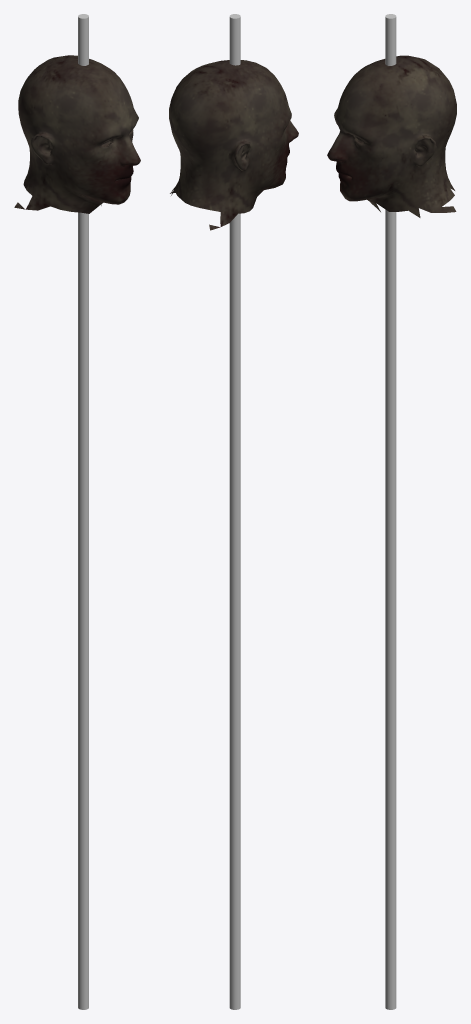
The model's file is alfazombisilahı.fbx.
3 views of the same model, side by side, from view 1: azimuth 90°, elevation 25°; view 2: azimuth 150°, elevation 25°; view 3: azimuth 330°, elevation 25° (orthographic).
Visible parts, largest first — view 1: body_male.003; view 2: body_male.003; view 3: body_male.003.
Boxes of the visible parts, x1,y1,x2,y2 form: body_male.003: (14,14,140,1009); body_male.003: (169,14,298,1009); body_male.003: (327,14,456,1009).
Size of the model in its own units: 19.82 by 180 by 20.87.
